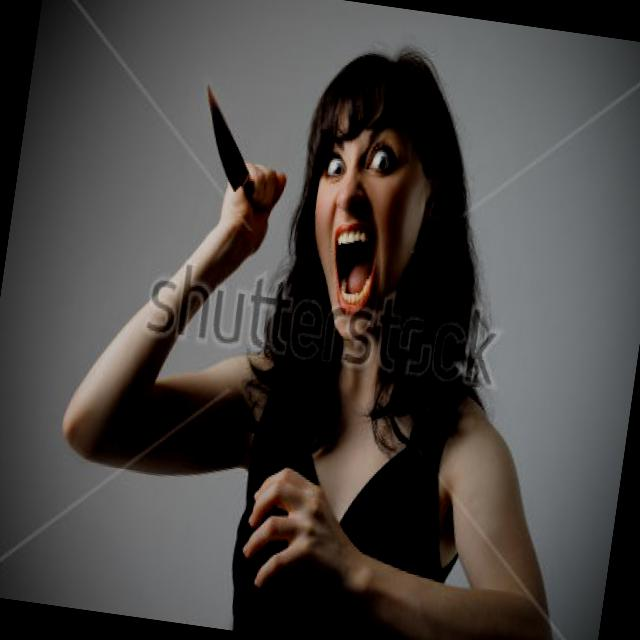knife: (182, 73, 302, 222)
